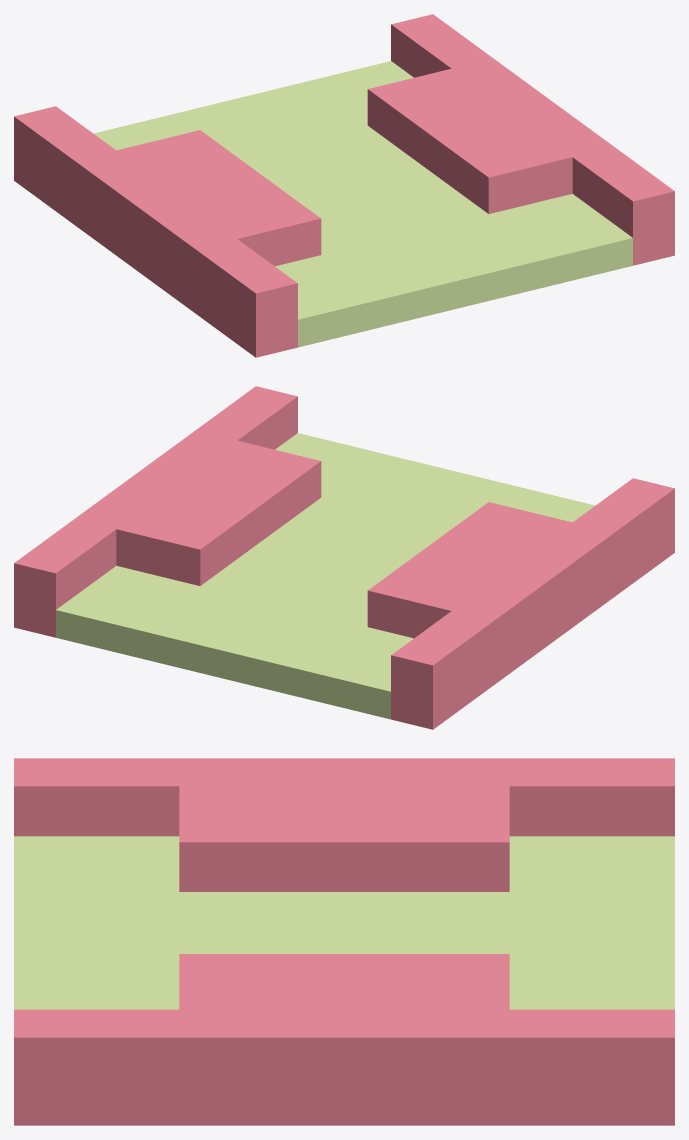
File: narrowBlock.fbx
The picture shows the model from 3 angles, top to bottom: view 1: azimuth 30°, elevation 25°; view 2: azimuth 150°, elevation 25°; view 3: azimuth 270°, elevation 25°; orthographic projection. The views are drawn at different scales.
Parts seen in each view (by area): view 1: narrowBlock; view 2: narrowBlock; view 3: narrowBlock.
Part boxes in pixels (x1,y1,x2,y2): narrowBlock: [14, 14, 674, 357]; narrowBlock: [14, 386, 674, 729]; narrowBlock: [14, 758, 674, 1125].
Bounding box in the file's own units: 99.99 × 14.67 × 99.99.
